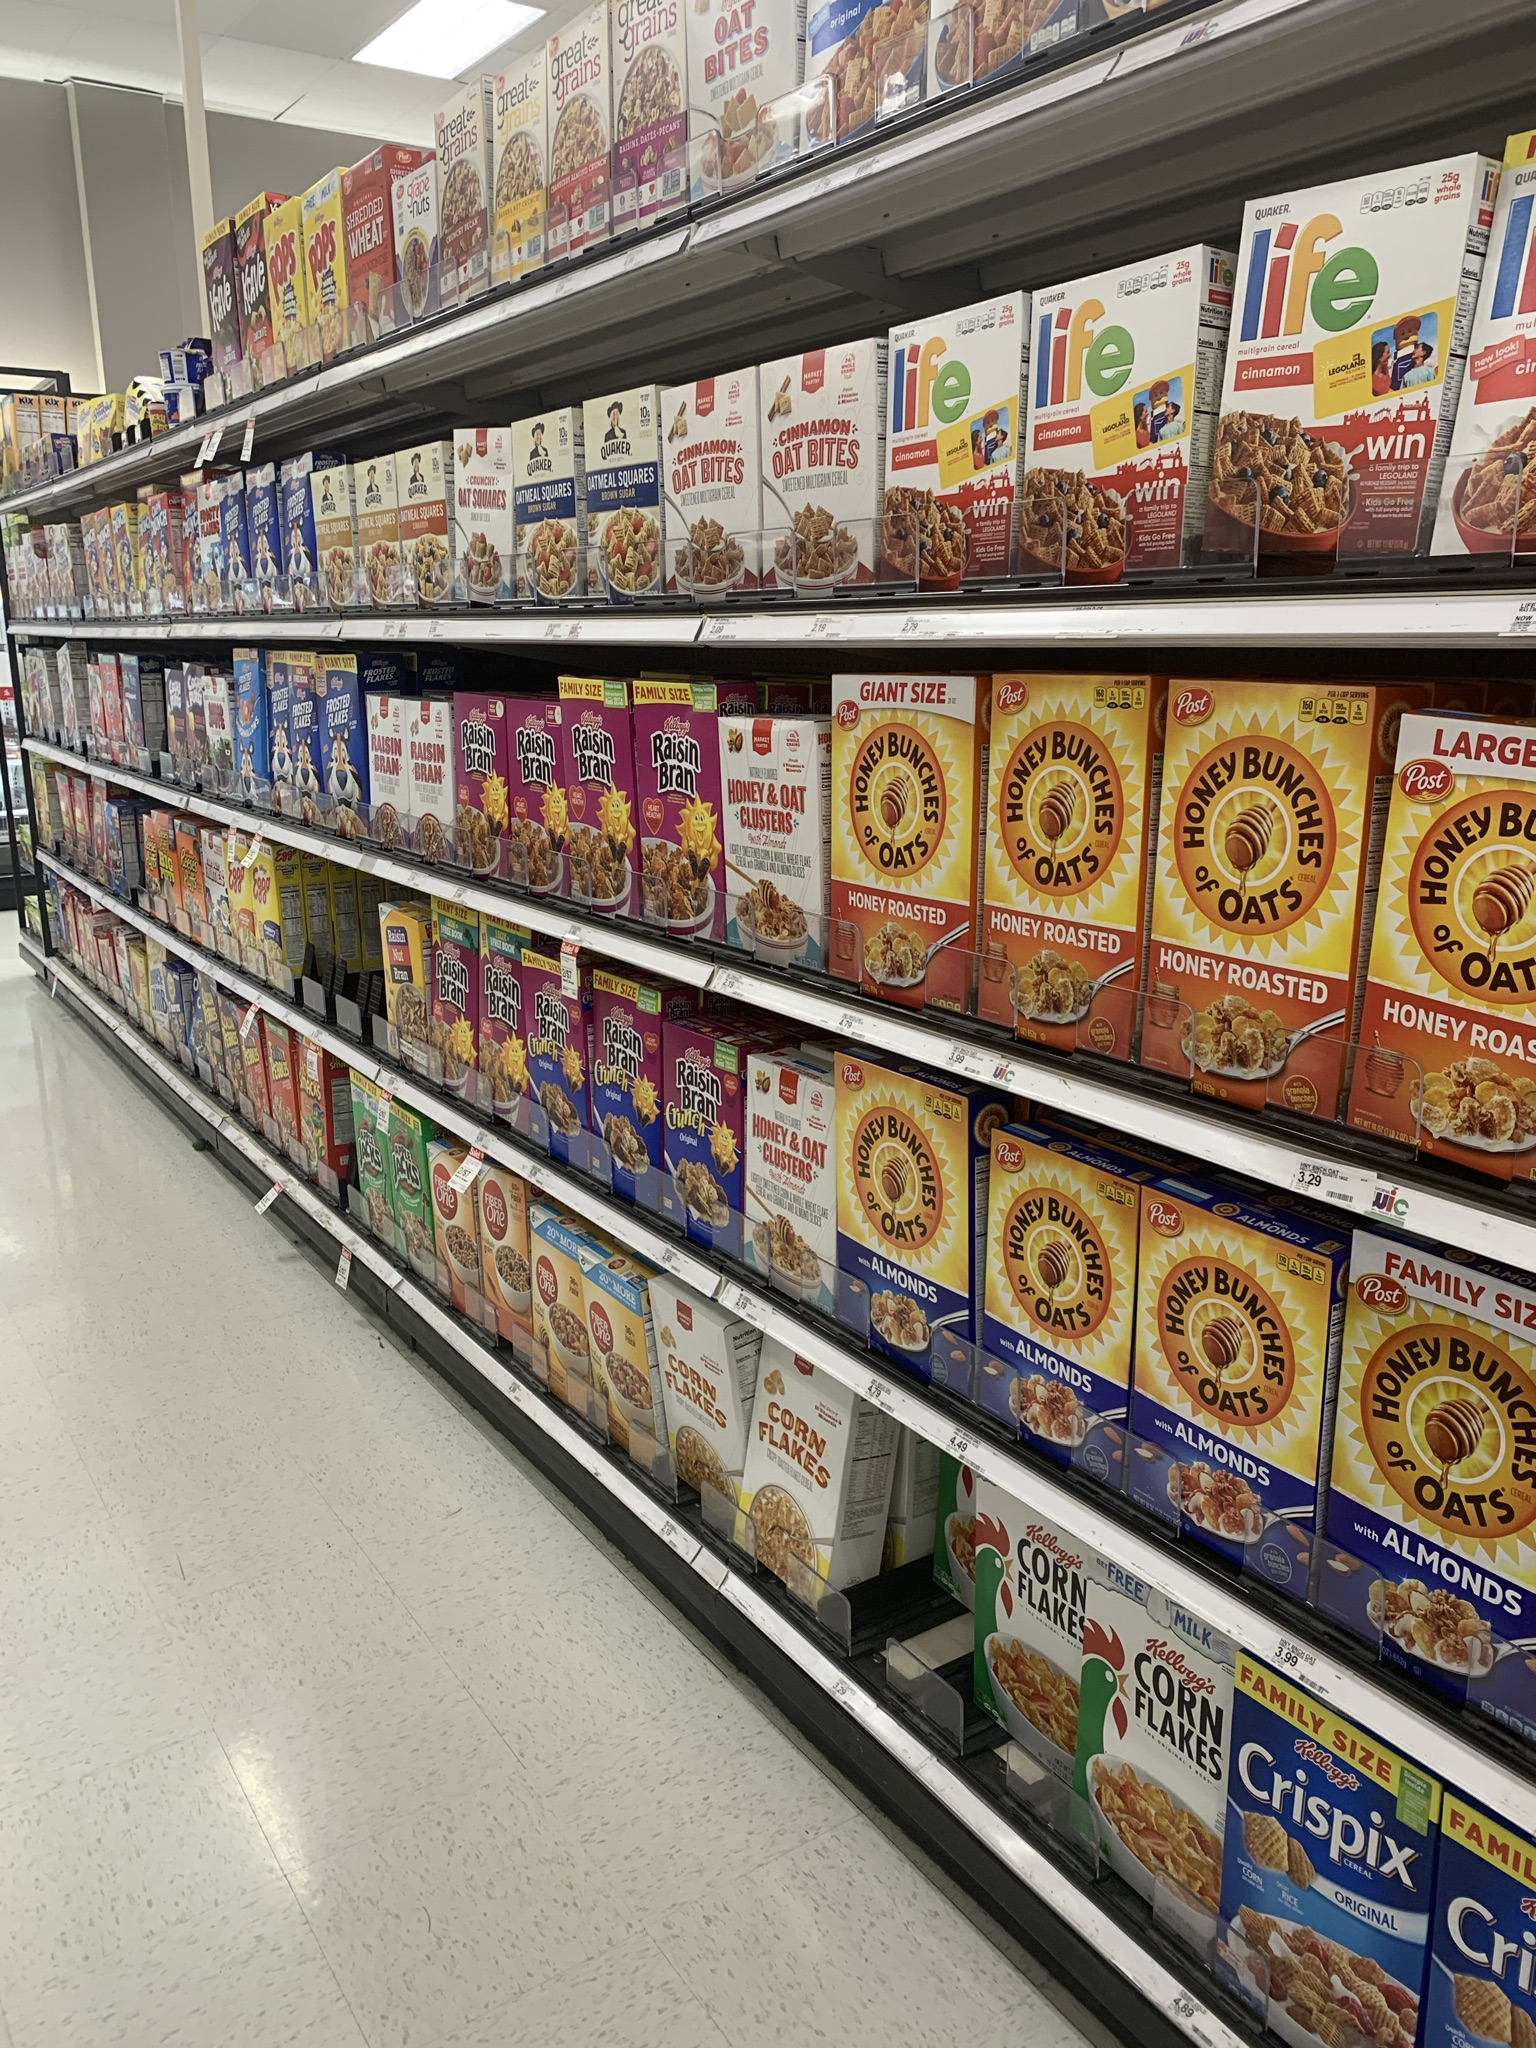cereal: (1333, 1226, 1536, 1708), (1129, 1180, 1333, 1627), (1346, 710, 1536, 1174), (1229, 1658, 1431, 2048), (1163, 681, 1334, 1134), (1238, 197, 1420, 568), (1070, 1572, 1221, 2008), (987, 685, 1152, 1077), (983, 1114, 1125, 1509), (829, 1053, 978, 1409), (829, 676, 975, 1026), (971, 1480, 1100, 1846), (1031, 289, 1184, 576), (892, 327, 1020, 589), (739, 1330, 837, 1619), (758, 373, 879, 600), (657, 1287, 737, 1572), (662, 390, 758, 598)
